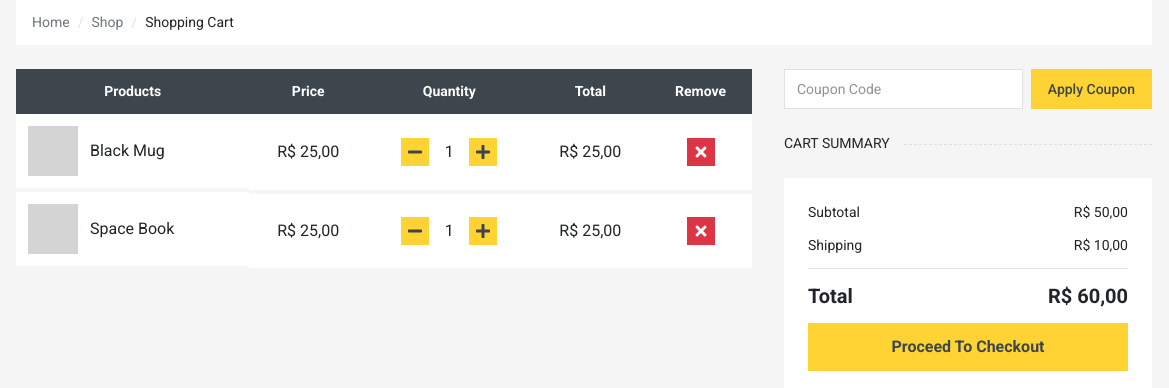
Scenario: Cart › removes a line with the remove button
Expected: the text "Black Mug" is shown, [16,114,249,192]
Step 1. Click the button named "Remove Black Mug" → (701, 152), box [687,138,715,166]
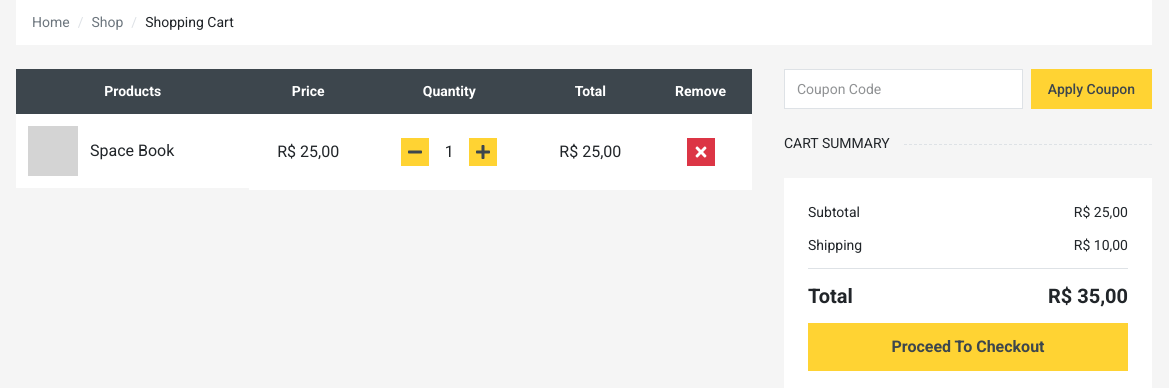
Expected: the text "Space Book" is shown, [16,114,249,192]
Expected: the text "Black Mug" is gone
